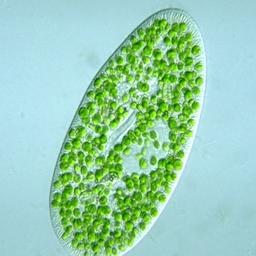Paramecium: (48, 9, 207, 254)
